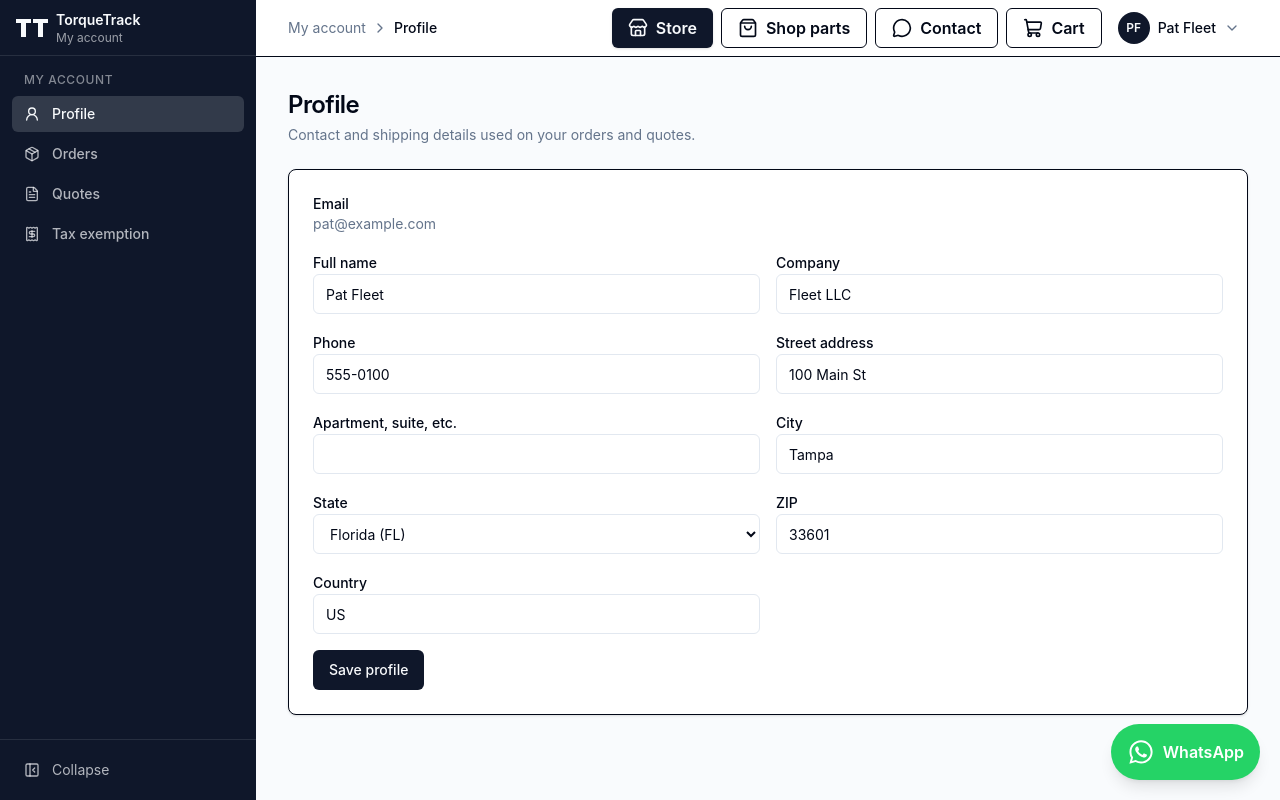
PortalPage › shows the API error when saving fails
Click the button "Save profile" at coordinates (369, 670), box top-left (313, 650), bottom-right (424, 690)
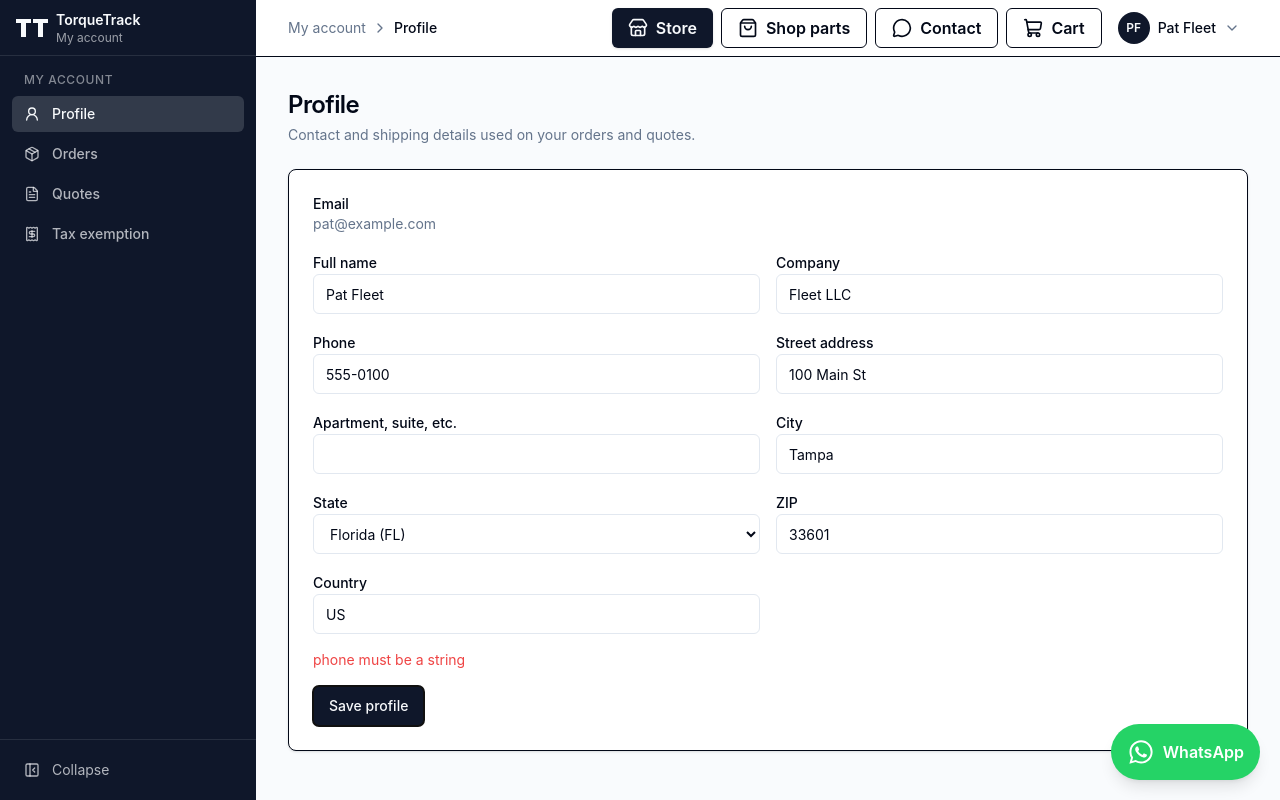
expect the text "phone must be a string" is shown: met, box top-left (313, 651), bottom-right (465, 668)
